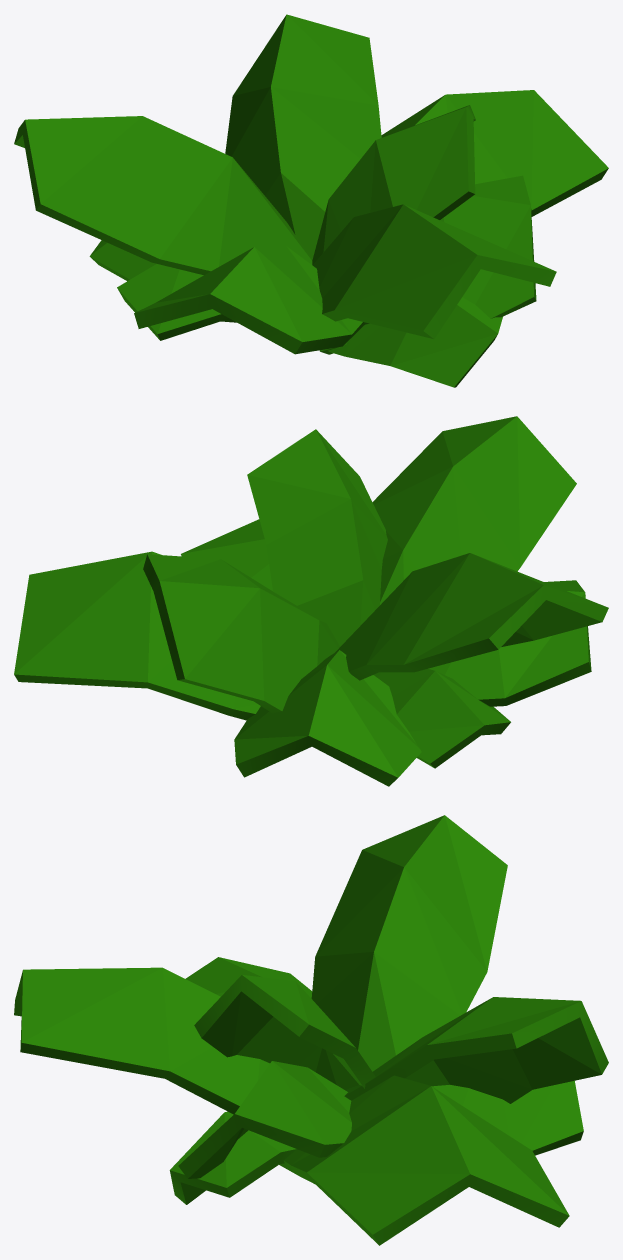
The model's file is Krzak I.FBX.
3 renders of one model, top to bottom at view 1: azimuth 30°, elevation 25°; view 2: azimuth 150°, elevation 25°; view 3: azimuth 270°, elevation 25°, orthographic. The views are drawn at different scales.
Parts seen in each view (by area): view 1: Plane.1231; view 2: Plane.1231; view 3: Plane.1231.
Boxes of the visible parts, x1,y1,x2,y2 form: Plane.1231: (14,14,608,387); Plane.1231: (14,416,608,786); Plane.1231: (14,815,608,1245).
Size of the model in its own units: 12.19 by 5.1 by 11.03.
